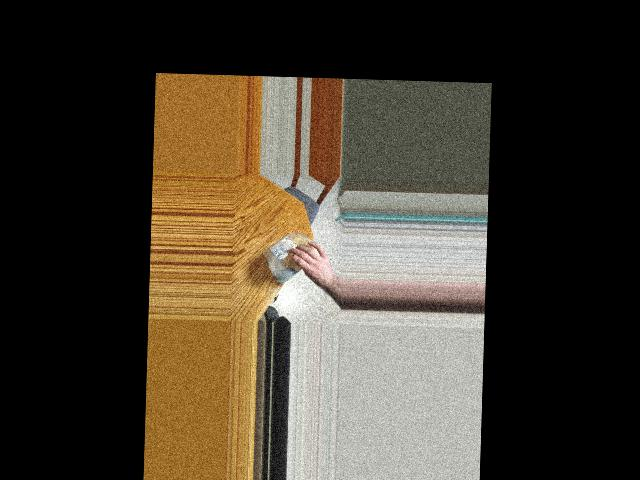cheese: (260, 230, 324, 283)
